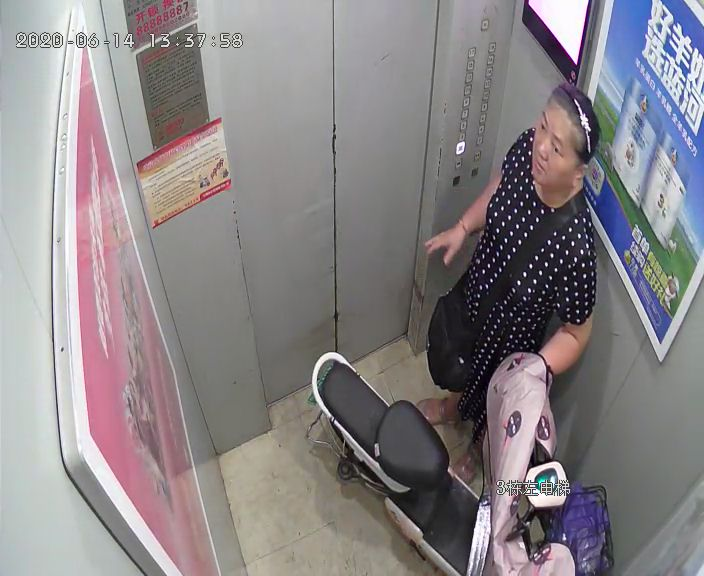Electric-bicycle: (309, 350, 615, 576)
